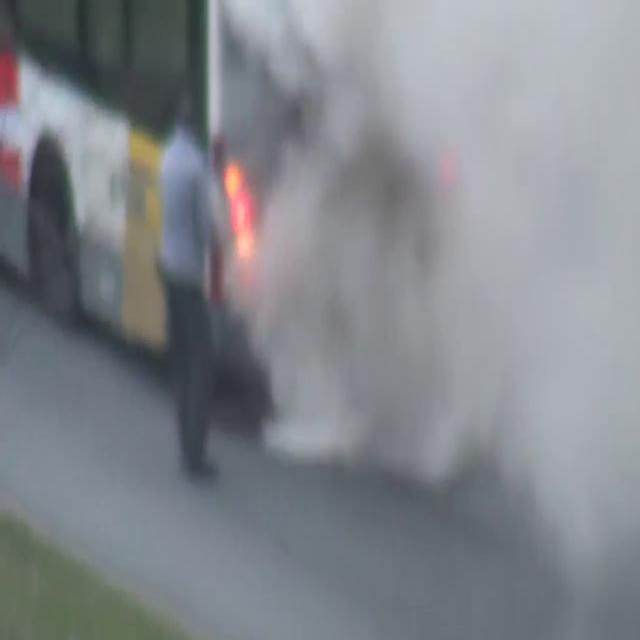Smoke: (228, 0, 640, 570)
